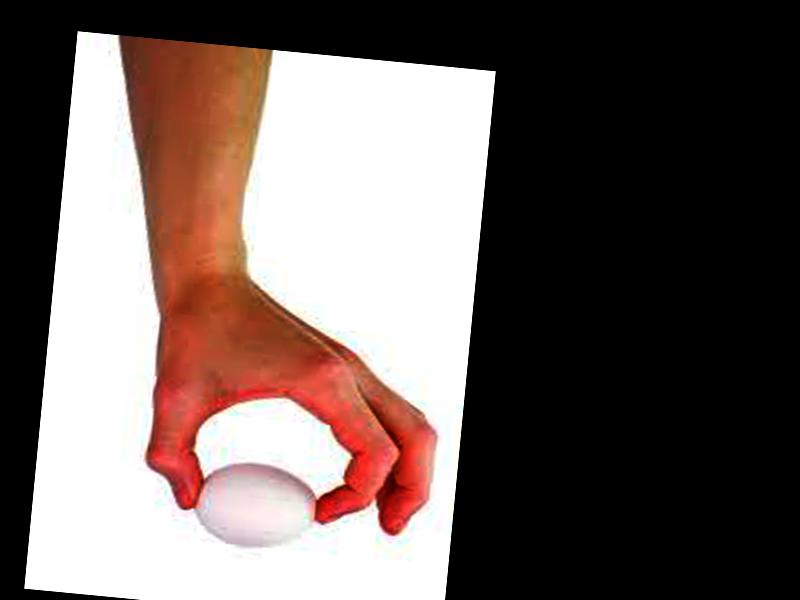Eggs: (192, 458, 321, 553)
